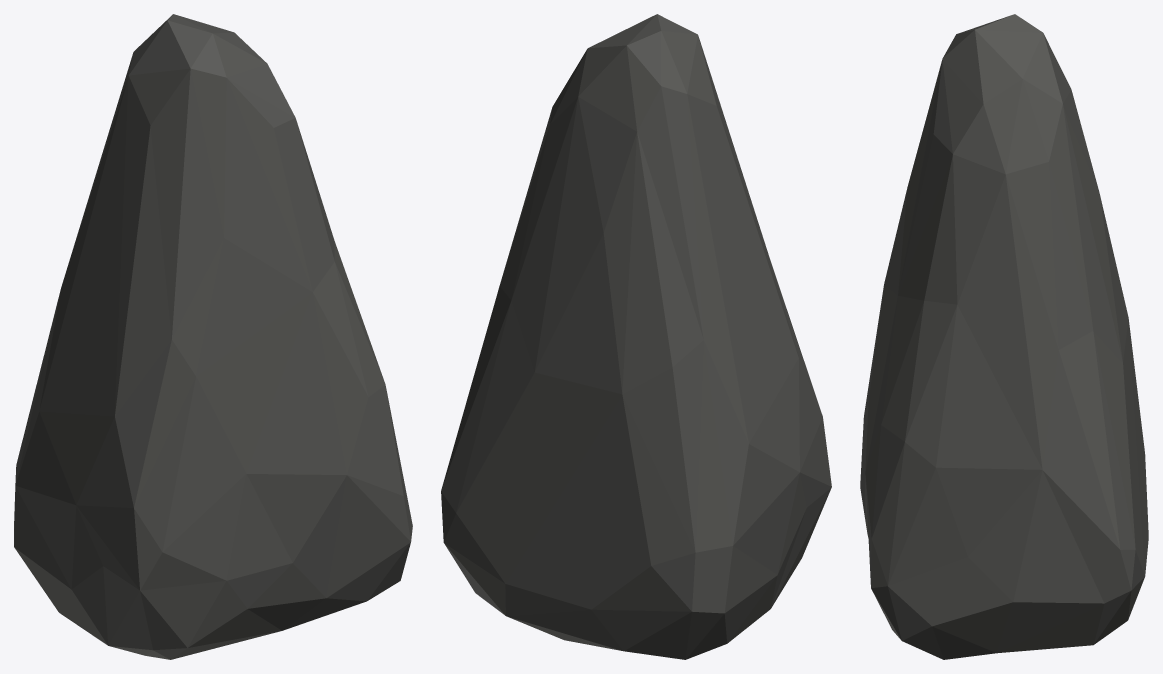
Rendered from SM_Envr_Nature_Rock_14.fbx.
The picture shows the model from 3 angles, left to right: view 1: azimuth 30°, elevation 25°; view 2: azimuth 150°, elevation 25°; view 3: azimuth 270°, elevation 25°; orthographic projection. The views are drawn at different scales.
Parts seen in each view (by area): view 1: SM_Envr_Nature_Rock_14; view 2: SM_Envr_Nature_Rock_14; view 3: SM_Envr_Nature_Rock_14.
Part boxes in pixels (box(x1,y1,x2,y2)): SM_Envr_Nature_Rock_14: box(14, 14, 412, 659); SM_Envr_Nature_Rock_14: box(441, 14, 831, 659); SM_Envr_Nature_Rock_14: box(860, 14, 1148, 659).
Size of the model in its own units: 326 by 624 by 274.
